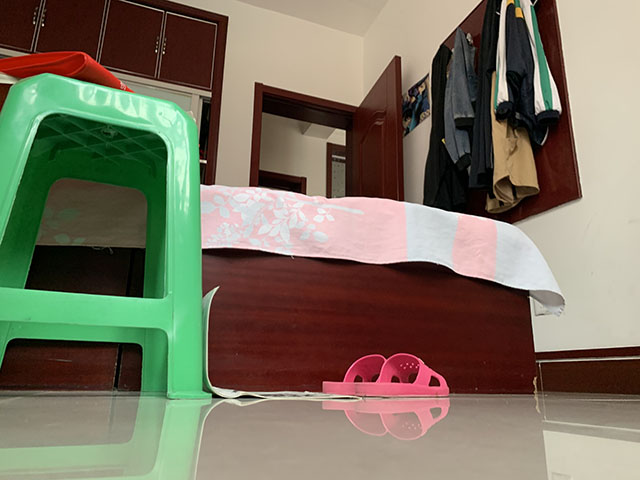bed: (1, 179, 567, 397)
carpet: (201, 285, 361, 401)
slippers: (359, 350, 451, 399), (323, 352, 394, 393)
stool: (1, 72, 215, 403)
